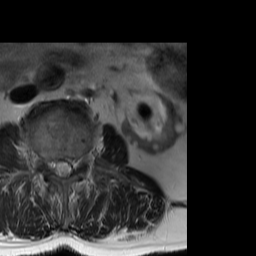CCS_normal: (58, 150, 65, 183)
LFS_normal: (73, 151, 80, 174)
LLS_normal: (65, 154, 72, 180)
RFS_normal: (45, 153, 53, 175)
RLS_normal: (53, 153, 59, 179)
